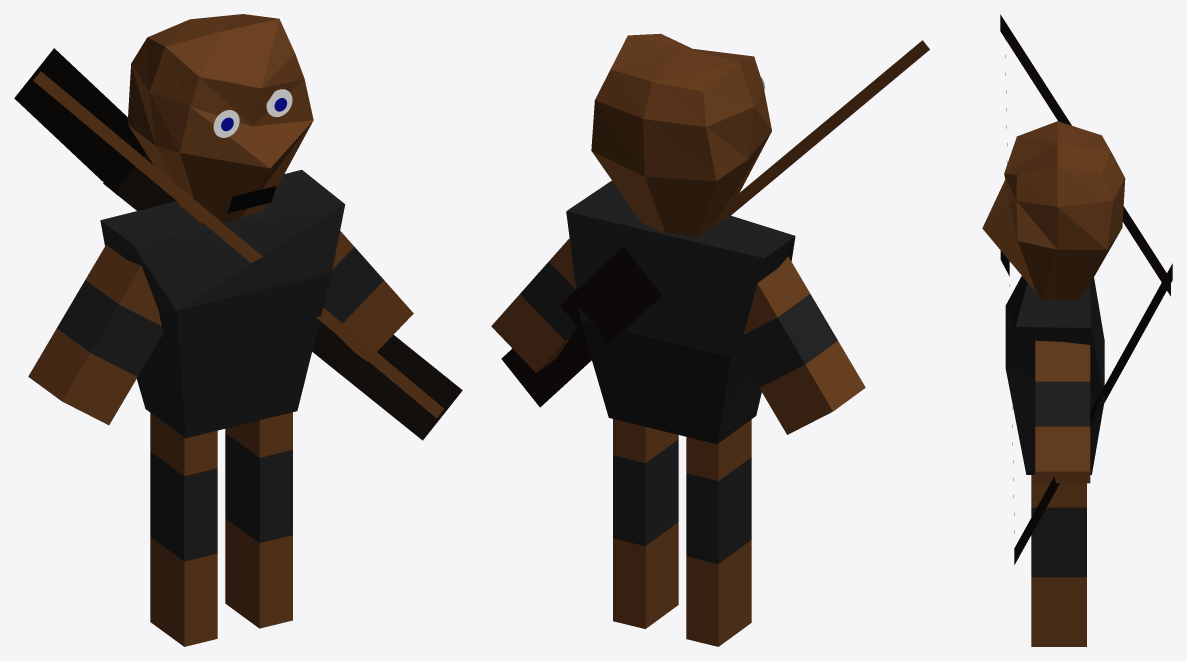
File: archer1.obj
3 renders of one model, left to right at view 1: azimuth 30°, elevation 25°; view 2: azimuth 150°, elevation 25°; view 3: azimuth 270°, elevation 25°, orthographic. The views are drawn at different scales.
Visible parts, largest first — view 1: Cube.001, Cube, Cube.004, Cube.005, Cube.003, Plane.001_Plane.002, Plane.002_Plane.003, Plane.003_Plane.004, Cube.002, Plane; view 2: Cube.001, Cube, Cube.004, Cube.005, Cube.003, Plane.001_Plane.002, Cube.002, Plane.003_Plane.004; view 3: Cube, Cube.001, Cube.005, Cube.002, Plane.001_Plane.002, Plane.002_Plane.003.
Part boxes in pixels (x1,y1,x2,y2): Cube.001: [100, 169, 345, 438]; Cube: [127, 14, 313, 225]; Cube.004: [150, 413, 217, 646]; Cube.005: [225, 412, 292, 628]; Cube.003: [28, 244, 163, 425]; Plane.001_Plane.002: [103, 153, 462, 440]; Plane.002_Plane.003: [14, 48, 145, 194]; Plane.003_Plane.004: [33, 71, 443, 418]; Cube.002: [323, 231, 413, 361]; Plane: [227, 186, 276, 213]; Cube.001: [566, 180, 795, 444]; Cube: [591, 33, 771, 236]; Cube.004: [686, 419, 751, 646]; Cube.005: [613, 419, 678, 628]; Cube.003: [738, 256, 865, 434]; Plane.001_Plane.002: [501, 247, 662, 407]; Cube.002: [491, 238, 576, 372]; Plane.003_Plane.004: [728, 40, 929, 215]; Cube: [982, 121, 1125, 300]; Cube.001: [1005, 276, 1104, 474]; Cube.005: [1031, 475, 1086, 646]; Cube.002: [1035, 340, 1090, 483]; Plane.001_Plane.002: [1014, 263, 1172, 564]; Plane.002_Plane.003: [1000, 14, 1170, 296].
Size of the model in its own units: 4.75 by 6.44 by 2.1.
